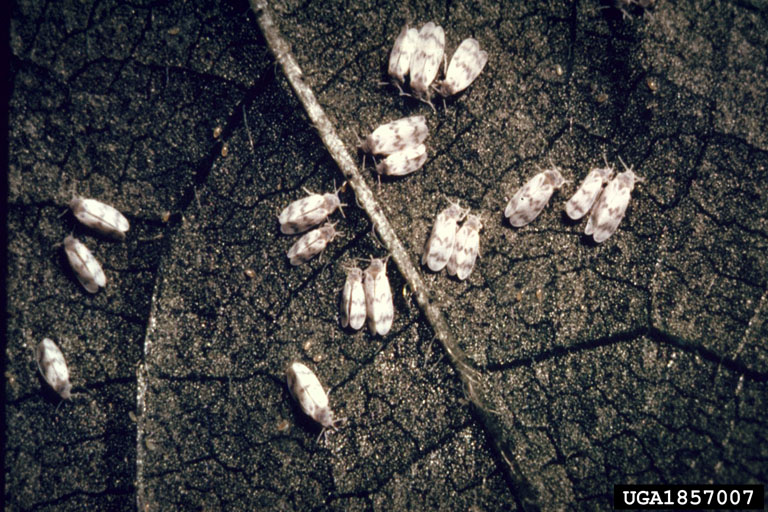whitefly: (585, 155, 643, 244), (502, 160, 570, 227), (284, 360, 343, 435), (56, 186, 129, 241), (353, 113, 431, 164), (279, 180, 346, 238), (432, 36, 489, 102), (422, 198, 471, 274), (50, 230, 107, 294), (568, 154, 617, 224), (407, 23, 445, 113), (284, 216, 346, 270), (32, 338, 80, 404), (444, 211, 487, 281), (381, 25, 418, 102), (367, 143, 431, 187), (365, 251, 396, 341), (341, 260, 372, 331)
